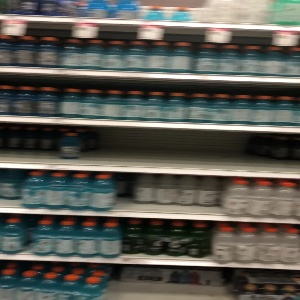void: (1, 123, 297, 169), (111, 265, 238, 300), (110, 177, 228, 210)
